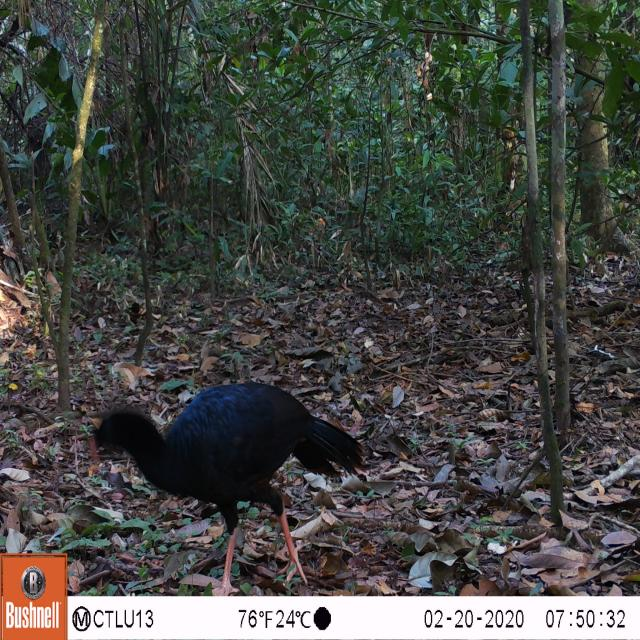Salvins Curassow: (79, 359, 384, 589)
